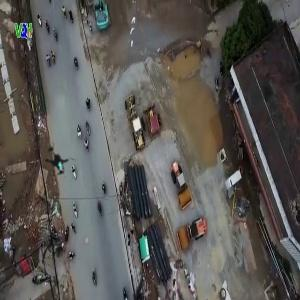drone: (21, 128, 90, 197)
